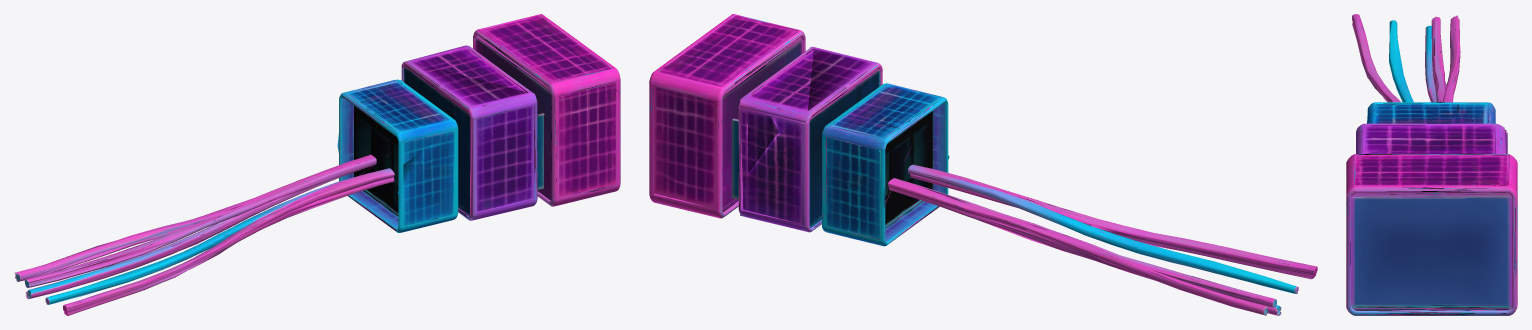
Rendered from cyber_box.glb.
3 renders of one model, left to right at view 1: azimuth 30°, elevation 25°; view 2: azimuth 150°, elevation 25°; view 3: azimuth 270°, elevation 25°, orthographic. The views are drawn at different scales.
Visible parts, largest first — view 1: geometry_0; view 2: geometry_0; view 3: geometry_0.
Part boxes in pixels (x1,y1,x2,y2): geometry_0: (14, 14, 620, 315); geometry_0: (649, 14, 1317, 315); geometry_0: (1346, 14, 1517, 315).
Size of the model in its own units: 0.9561 by 0.2041 by 0.2446.
Materials: 1 (1 with a texture image).
